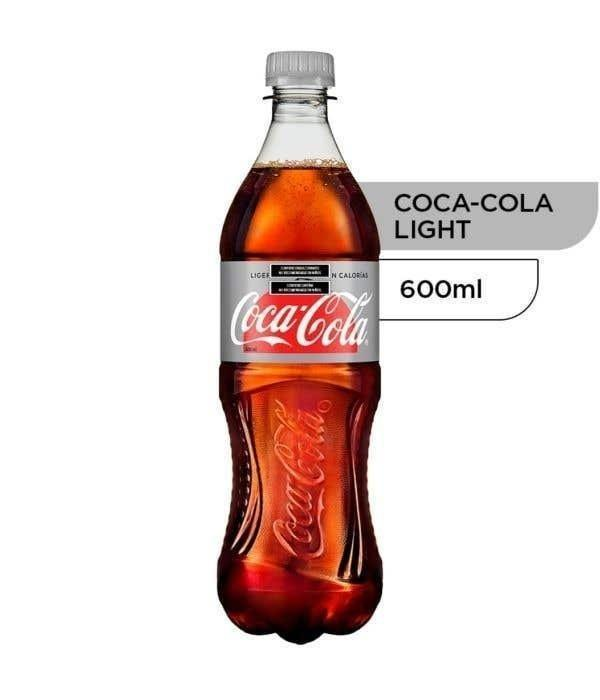bottle-plastic: (213, 44, 386, 645)
